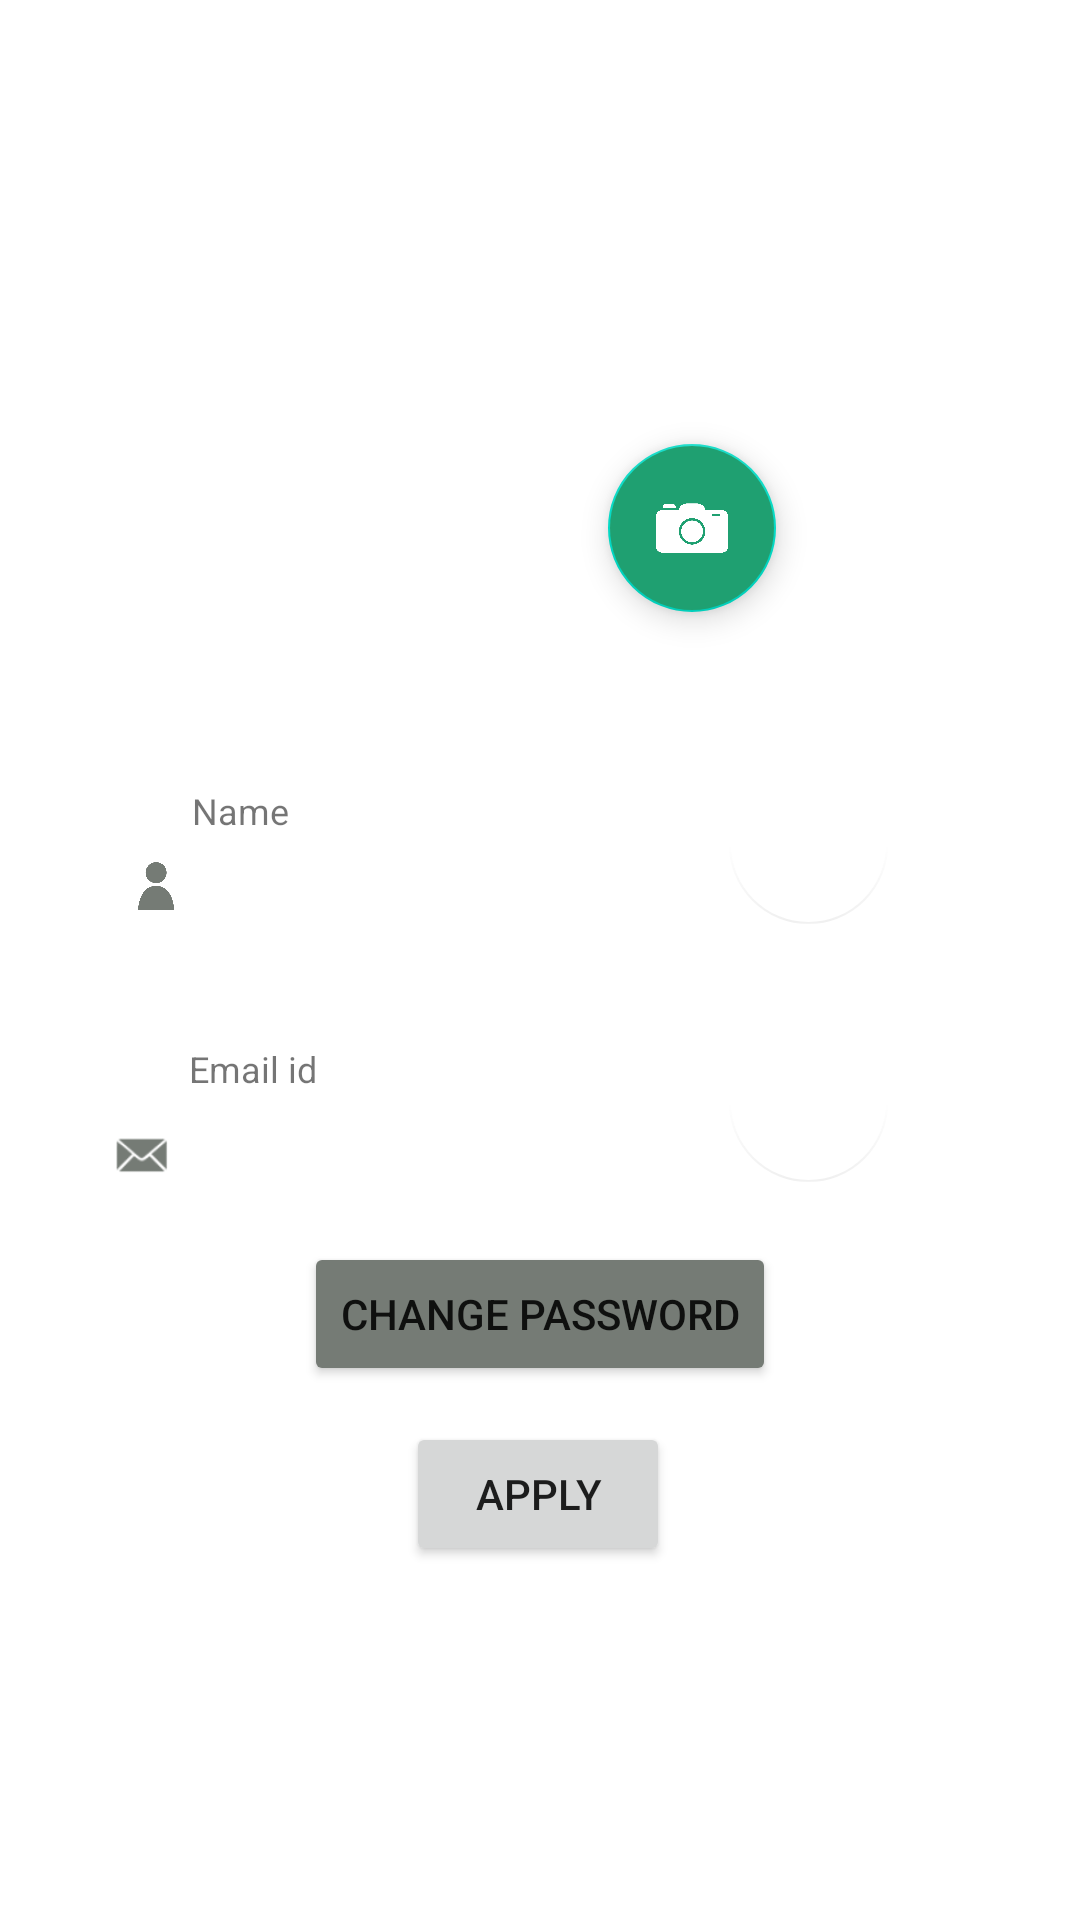

Where icons sit on this 1080×1920 app screen, as {"x1": x1, "y1": y1, "x2": x2, "y2": y2}:
camera: {"x1": 608, "y1": 444, "x2": 776, "y2": 612}
sym action email: {"x1": 116, "y1": 1138, "x2": 167, "y2": 1172}
